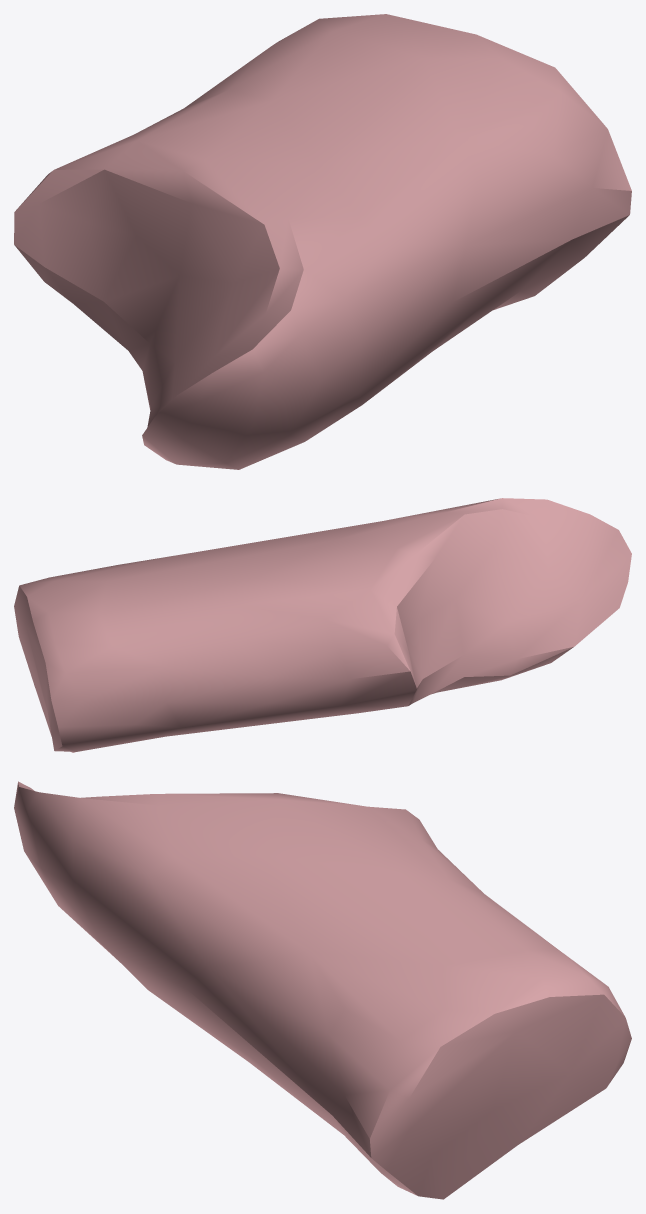
Rendered from fma83739-l_mm3770.glb.
The picture shows the model from 3 angles, top to bottom: view 1: azimuth 30°, elevation 25°; view 2: azimuth 150°, elevation 25°; view 3: azimuth 270°, elevation 25°; orthographic projection. The views are drawn at different scales.
Visible parts, largest first — view 1: FMA83739-L_MM3770; view 2: FMA83739-L_MM3770; view 3: FMA83739-L_MM3770.
Boxes of the visible parts, <box> form: FMA83739-L_MM3770: <box>14,14,631,469</box>; FMA83739-L_MM3770: <box>14,498,631,752</box>; FMA83739-L_MM3770: <box>14,781,631,1199</box>.
Size of the model in its own units: 0.0113 by 0.00491 by 0.0112.
